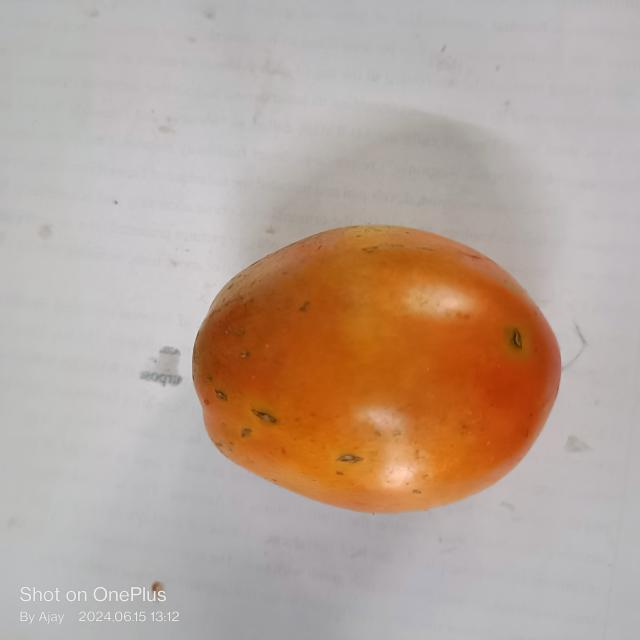Anthrocnose: (446, 433, 453, 434)
Bacterial_Spot: (335, 448, 370, 468), (250, 406, 278, 427), (510, 326, 529, 354), (217, 386, 232, 406)
